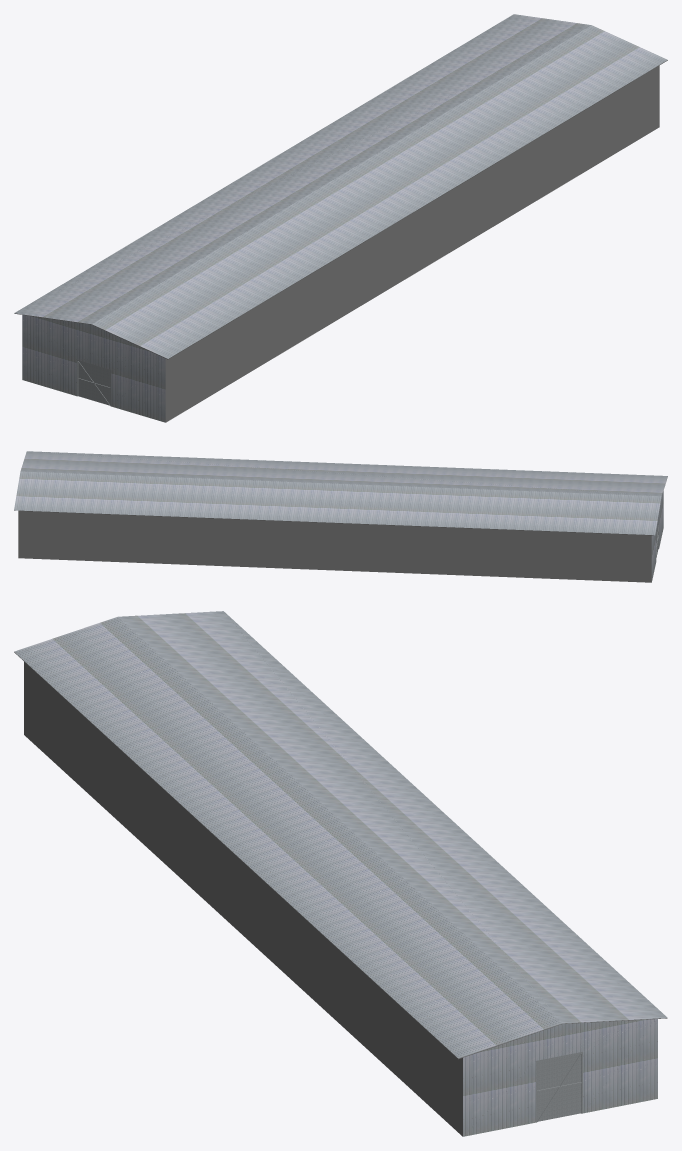
3 renders of one model, top to bottom at view 1: azimuth 30°, elevation 25°; view 2: azimuth 150°, elevation 25°; view 3: azimuth 270°, elevation 25°, orthographic. The views are drawn at different scales.
Visible parts, largest first — view 1: E棟; view 2: E棟; view 3: E棟.
Boxes of the visible parts, bbox=[...] form: E棟: bbox=[14, 14, 667, 422]; E棟: bbox=[14, 451, 667, 582]; E棟: bbox=[14, 611, 667, 1136].
Size of the model in its own units: 47.26 by 4.77 by 29.17.
Materials: 3 (2 with a texture image).
